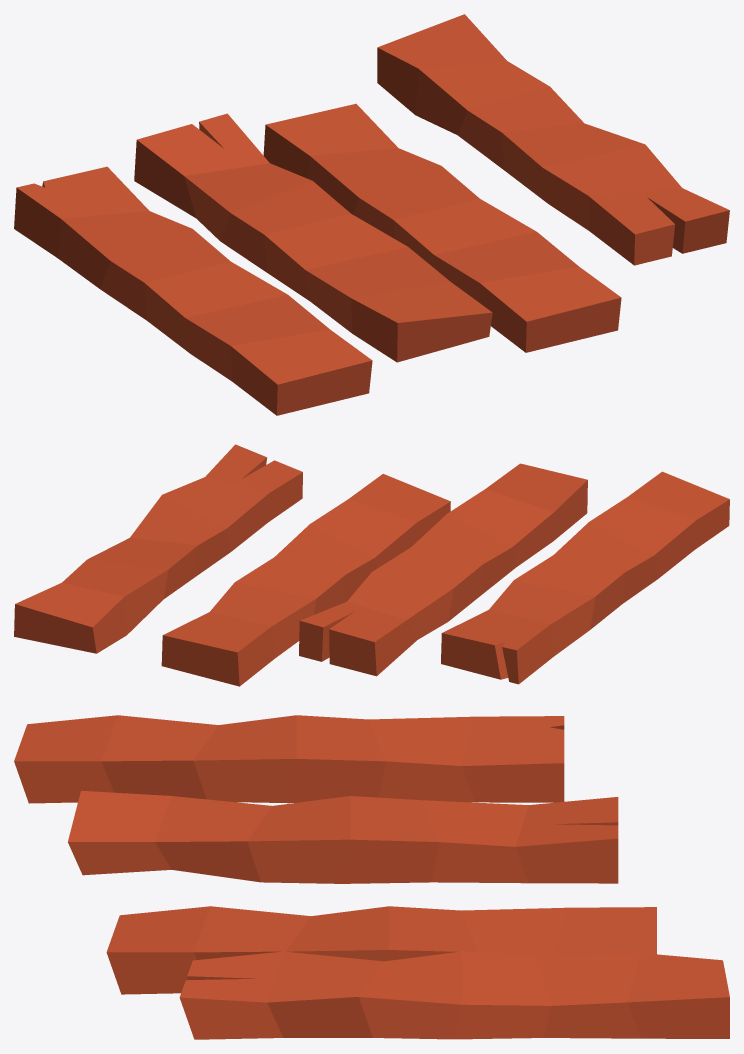
File: planks.fbx
3 renders of one model, top to bottom at view 1: azimuth 30°, elevation 25°; view 2: azimuth 150°, elevation 25°; view 3: azimuth 270°, elevation 25°, orthographic. The views are drawn at different scales.
Visible parts, largest first — view 1: Cube.003, Cube, Cube.002, Cube.001; view 2: Cube, Cube.003, Cube.002, Cube.001; view 3: Cube.002, Cube.003, Cube, Cube.001.
Part boxes in pixels (x1=…): Cube.003: x1=14, y1=166, x2=372, y2=415; Cube: x1=134, y1=113, x2=492, y2=362; Cube.002: x1=377, y1=14, x2=729, y2=265; Cube.001: x1=263, y1=103, x2=621, y2=352; Cube: x1=299, y1=463, x2=587, y2=676; Cube.003: x1=441, y1=471, x2=729, y2=684; Cube.002: x1=14, y1=444, x2=302, y2=653; Cube.001: x1=161, y1=474, x2=450, y2=686; Cube.002: x1=179, y1=951, x2=729, y2=1039; Cube.003: x1=14, y1=715, x2=564, y2=803; Cube: x1=68, y1=790, x2=618, y2=883; Cube.001: x1=106, y1=906, x2=656, y2=994.
Size of the model in its own units: 1206 by 182 by 1355.
